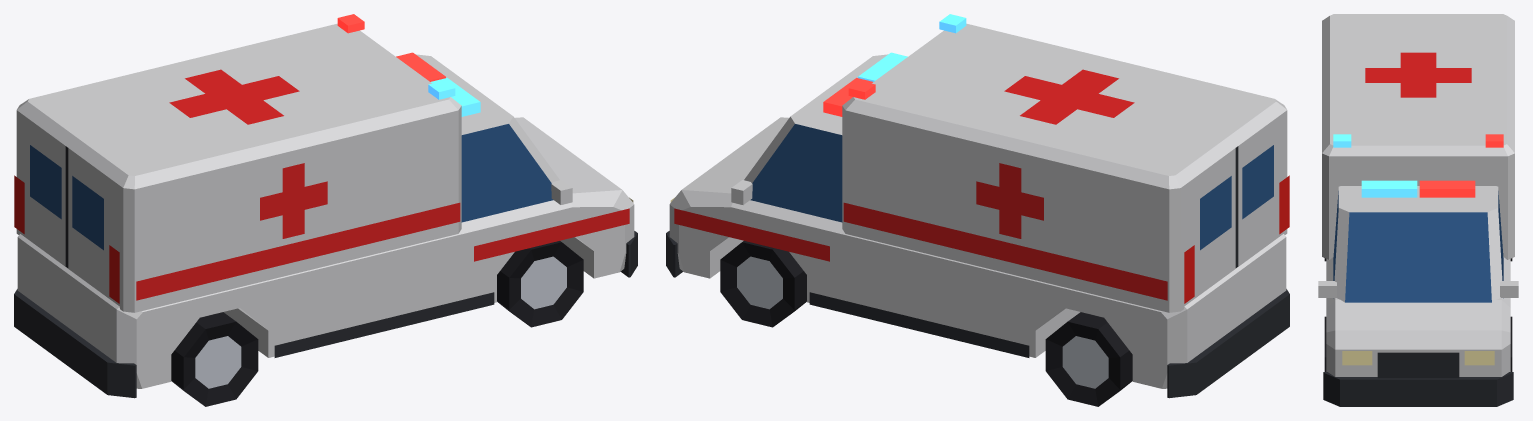
File: ambulance.glb
The picture shows the model from 3 angles, left to right: view 1: azimuth 30°, elevation 25°; view 2: azimuth 150°, elevation 25°; view 3: azimuth 270°, elevation 25°; orthographic projection. The views are drawn at different scales.
Parts seen in each view (by area): view 1: Body; view 2: Body; view 3: Body.
Part boxes in pixels (x1=…): Body: x1=14, y1=14, x2=637, y2=406; Body: x1=666, y1=14, x2=1289, y2=406; Body: x1=1318, y1=14, x2=1518, y2=406.
Bounding box in the file's own units: 0.58 × 0.264 × 0.226.
